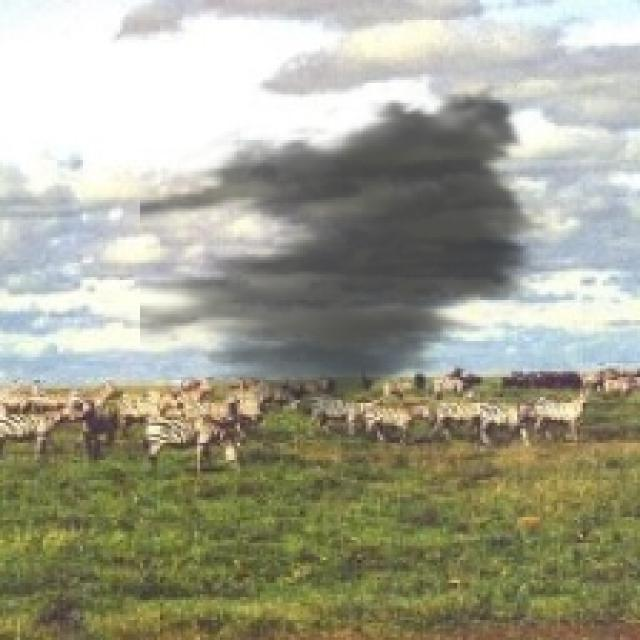smoke: (140, 74, 557, 432)
